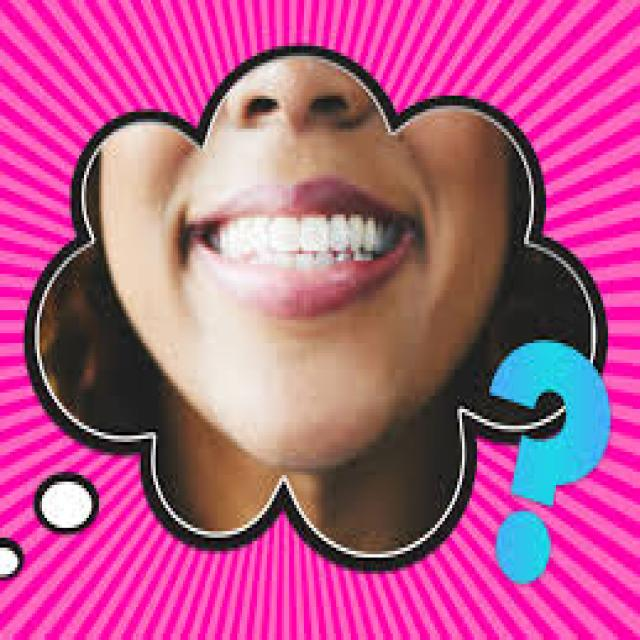tooth: (272, 221, 299, 254), (329, 214, 351, 254), (302, 221, 328, 254), (358, 221, 383, 254), (240, 218, 267, 247), (212, 231, 232, 251)
